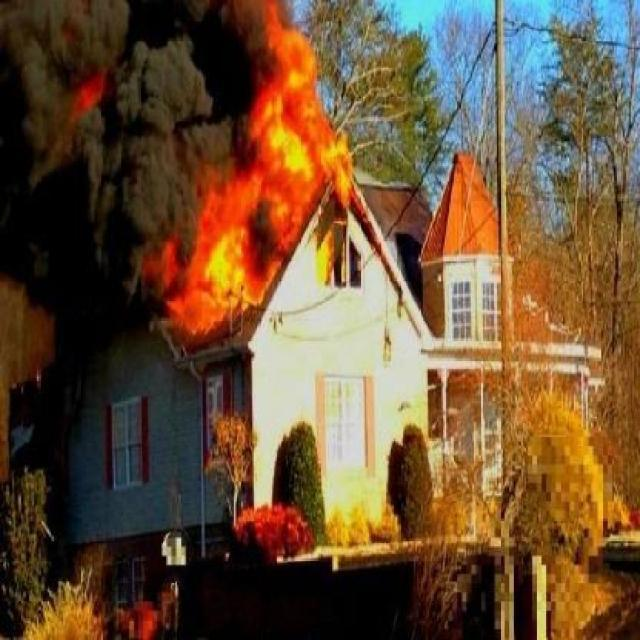Fire: (100, 4, 372, 352)
Smoke: (3, 0, 264, 272)
